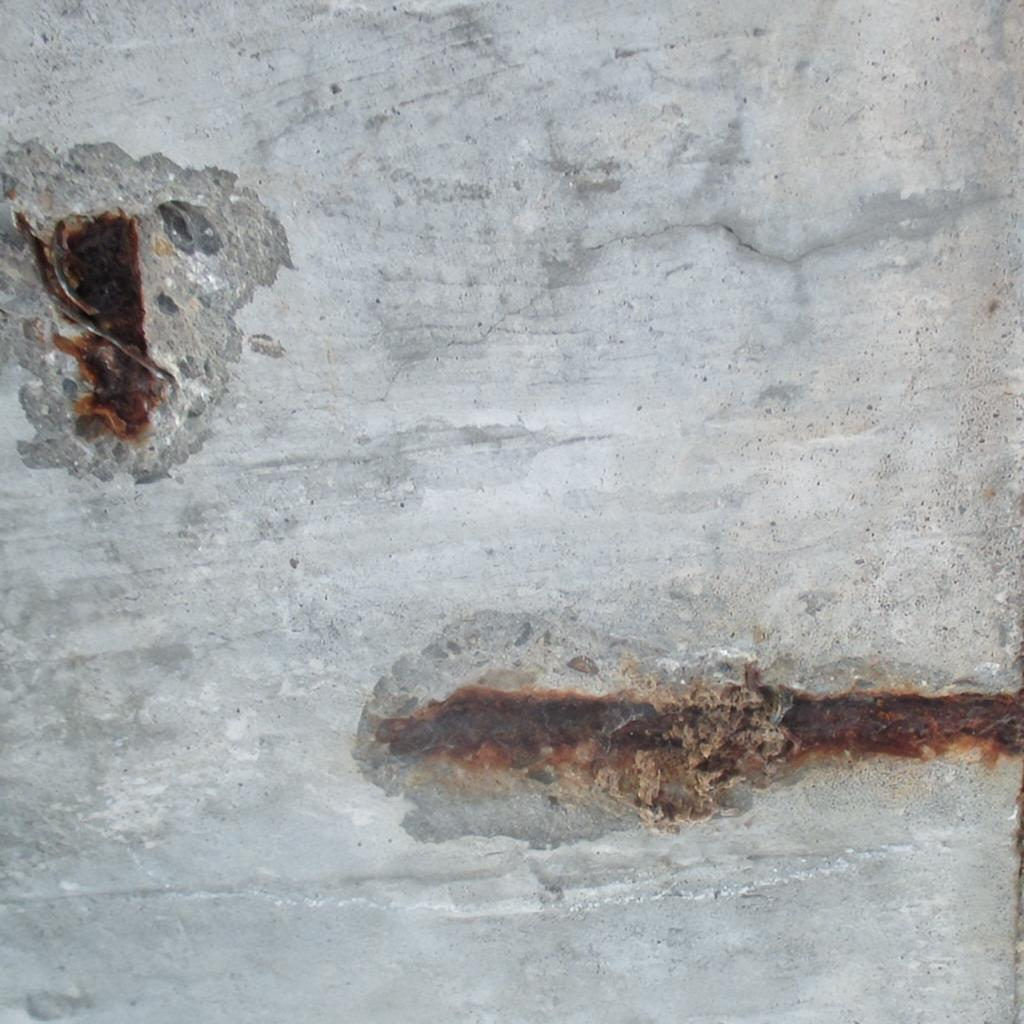exposed_rebar: (376, 664, 1024, 827), (16, 210, 174, 440)
spalling: (356, 610, 1024, 847), (0, 142, 292, 482)
